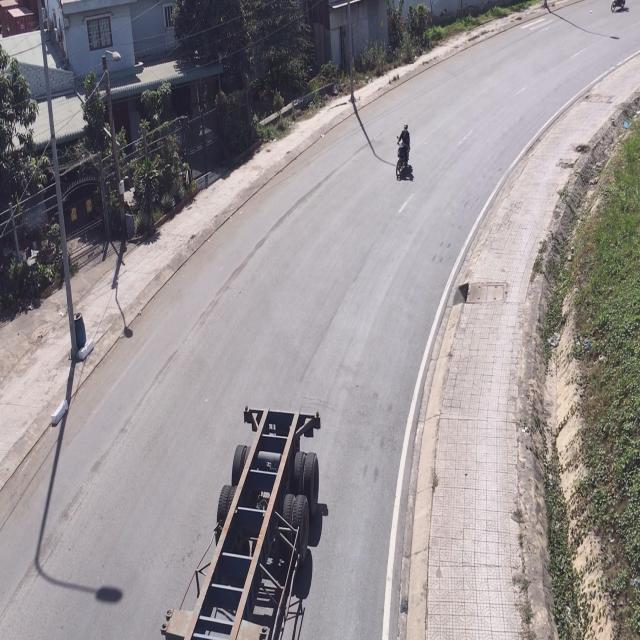motorbike: (394, 125, 413, 185), (612, 0, 631, 15)
truck: (160, 400, 328, 640)
